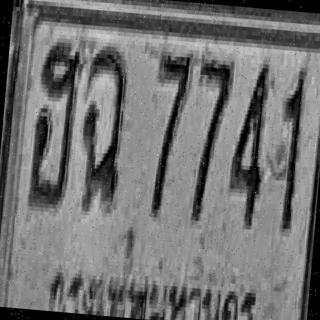A09: (76, 42, 130, 212)
A44: (27, 36, 84, 210)
N01: (272, 66, 306, 233)
N04: (225, 58, 272, 226)
N07: (187, 54, 234, 223), (146, 49, 192, 217)
